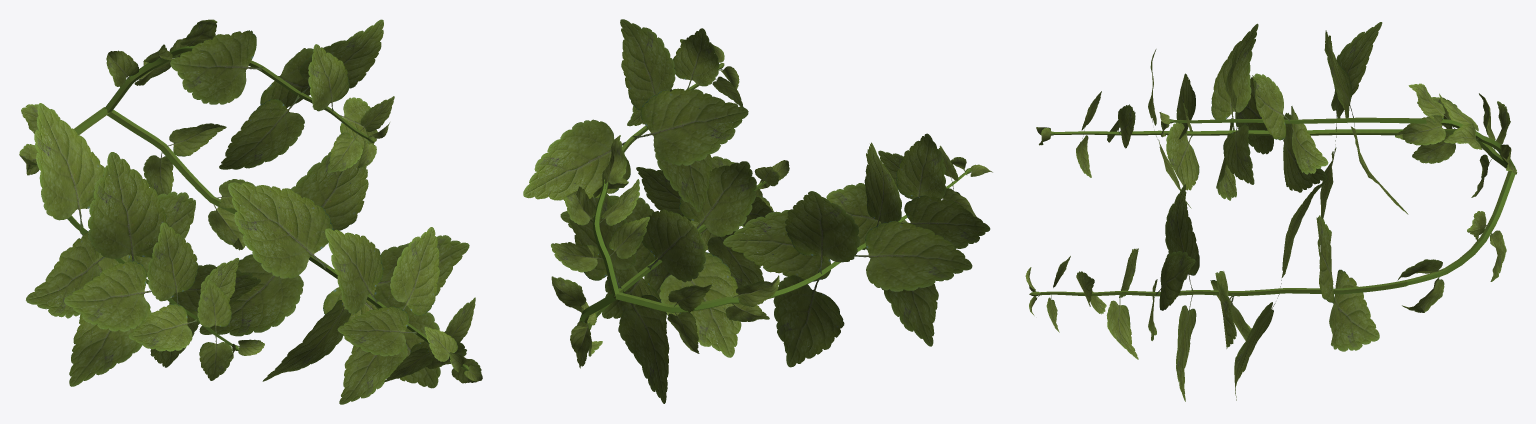
The picture shows the model from 3 angles, left to right: view 1: azimuth 30°, elevation 25°; view 2: azimuth 150°, elevation 25°; view 3: azimuth 270°, elevation 25°; orthographic projection. The views are drawn at different scales.
Visible parts, largest first — view 1: GC26_v1; view 2: GC26_v1; view 3: GC26_v1.
Part boxes in pixels (bbox=[...]): GC26_v1: bbox=[19, 19, 482, 404]; GC26_v1: bbox=[523, 19, 992, 403]; GC26_v1: bbox=[1025, 22, 1517, 401].
Size of the model in its own units: 1.06 by 0.814 by 1.1.
3 materials, 3 textured.
